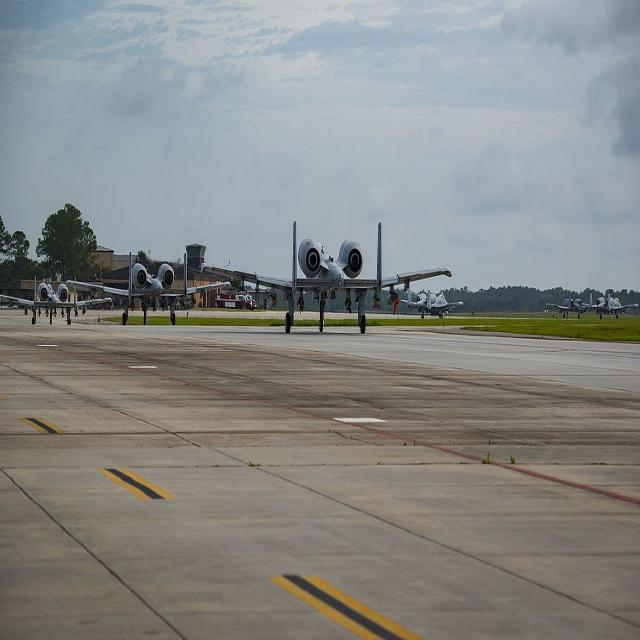MIL_Plane: (199, 220, 453, 333), (66, 252, 232, 327), (1, 274, 112, 325), (400, 288, 464, 320), (581, 291, 639, 319), (545, 293, 597, 319)
